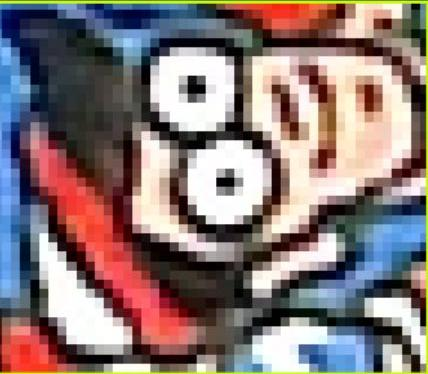waldos: (3, 9, 423, 363)
